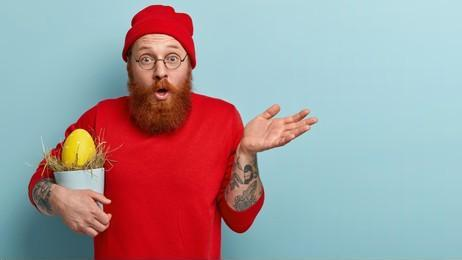face: (132, 42, 192, 114)
